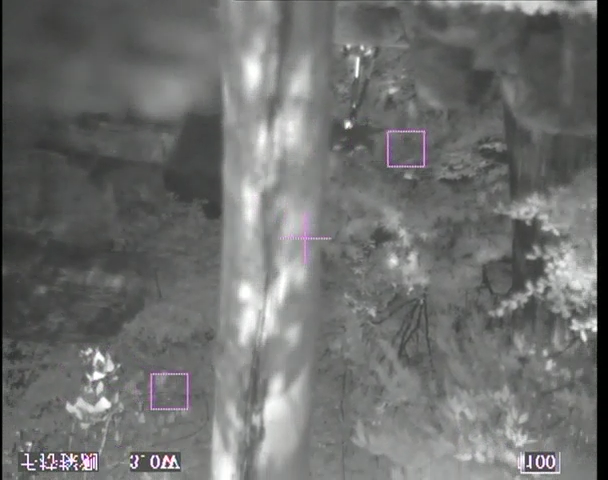my: (343, 119, 352, 130)
